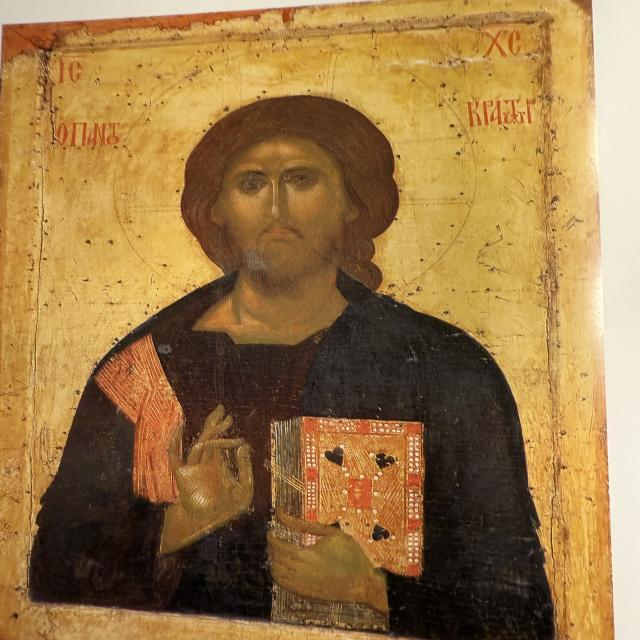aura: (103, 45, 479, 305)
book: (261, 413, 431, 584)
christ: (25, 47, 554, 640)
christ_hand: (152, 403, 262, 552)
